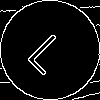L: (25, 25, 77, 77)
